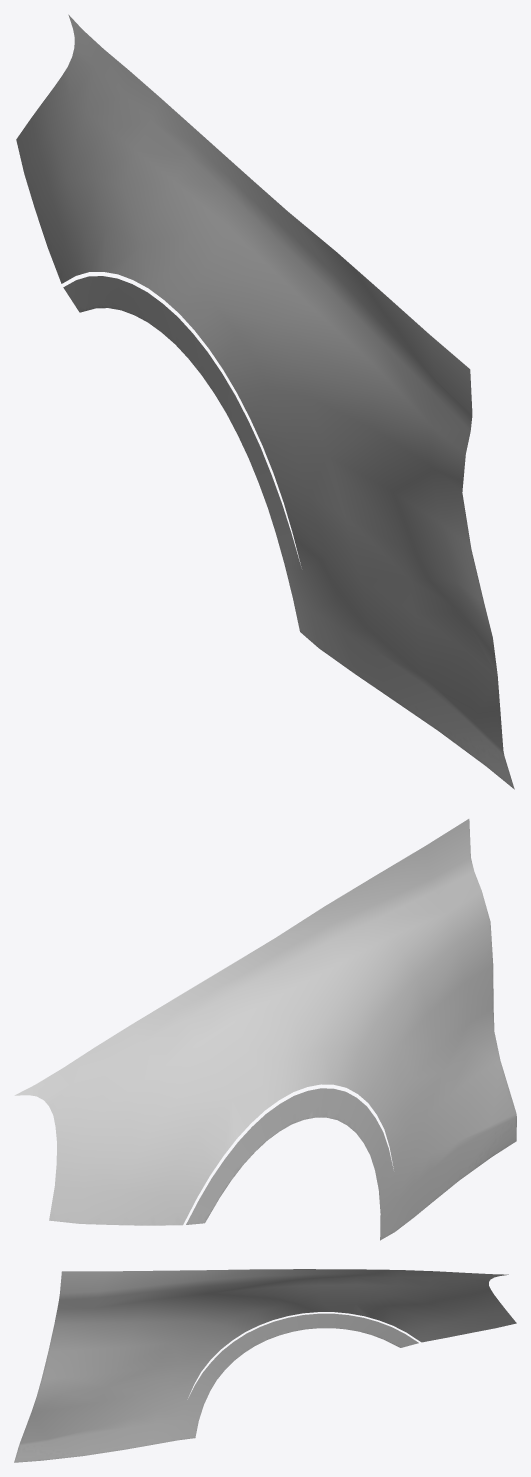
File: M2passbackfender.glb
3 renders of one model, top to bottom at view 1: azimuth 30°, elevation 25°; view 2: azimuth 150°, elevation 25°; view 3: azimuth 270°, elevation 25°, orthographic. The views are drawn at different scales.
Parts seen in each view (by area): view 1: Object_23.061; view 2: Object_23.061; view 3: Object_23.061.
Part boxes in pixels (left/top/right/bottom): Object_23.061: left=16, top=14, right=514, bottom=789; Object_23.061: left=14, top=819, right=516, bottom=1240; Object_23.061: left=14, top=1269, right=516, bottom=1462.
Bounding box in the file's own units: 0.1582 × 0.6184 × 1.4.
Materials: 1 (1 with a texture image).
